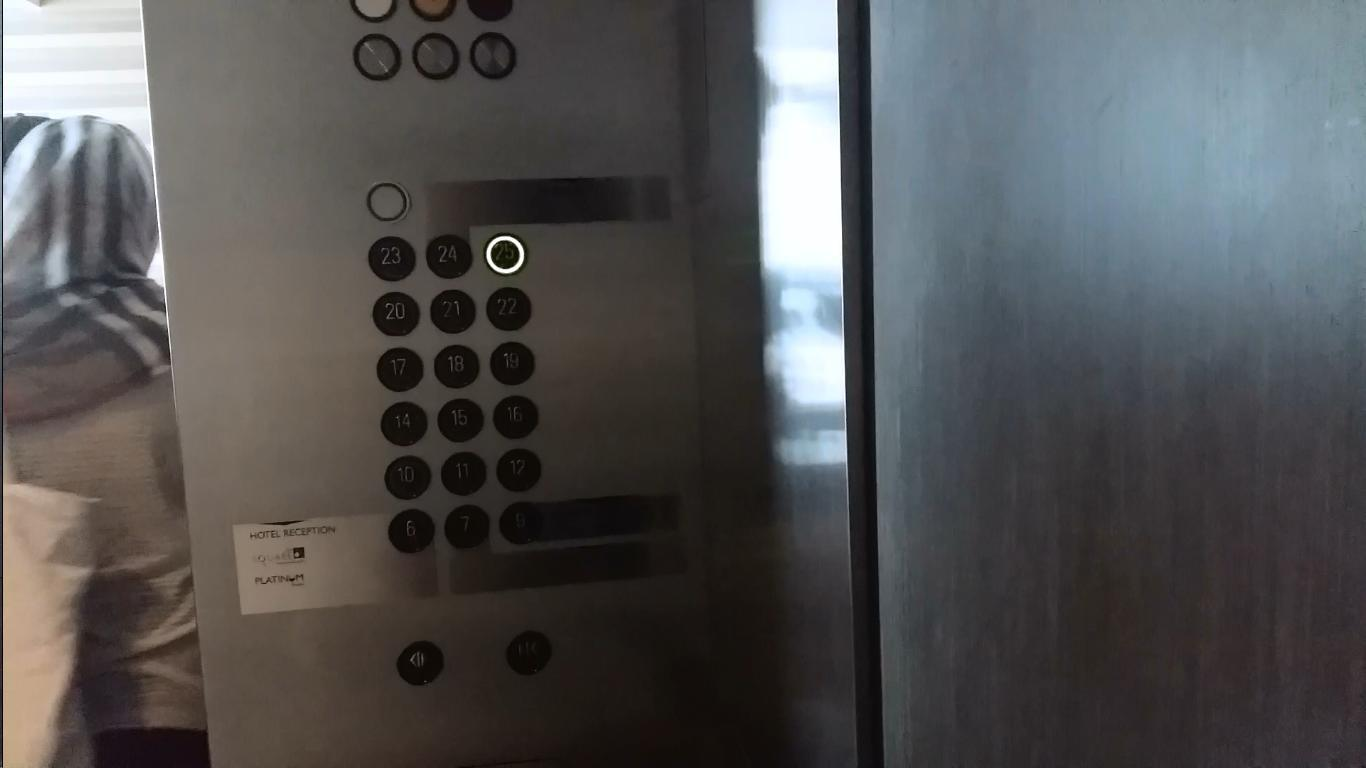10: (380, 452, 433, 503)
11: (436, 447, 490, 498)
12: (493, 446, 544, 496)
14: (376, 398, 430, 450)
15: (432, 393, 485, 444)
16: (489, 391, 541, 442)
17: (372, 343, 427, 394)
18: (429, 341, 481, 391)
19: (485, 338, 537, 388)
20: (369, 288, 420, 339)
21: (426, 286, 478, 336)
22: (481, 281, 534, 332)
23: (364, 232, 417, 283)
24: (421, 228, 475, 281)
25: (479, 229, 530, 280)
6: (382, 505, 435, 557)
7: (439, 499, 492, 552)
9: (493, 500, 544, 545)
close: (502, 626, 555, 677)
open: (392, 637, 447, 689)
unknown: (349, 28, 402, 80), (407, 29, 460, 80), (466, 28, 519, 79), (360, 176, 411, 226)
